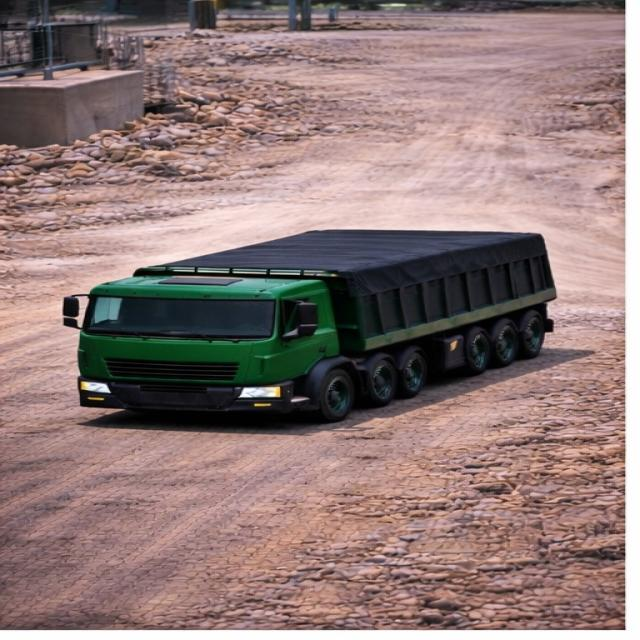trailer: (147, 228, 532, 278)
truck: (67, 218, 559, 418)
